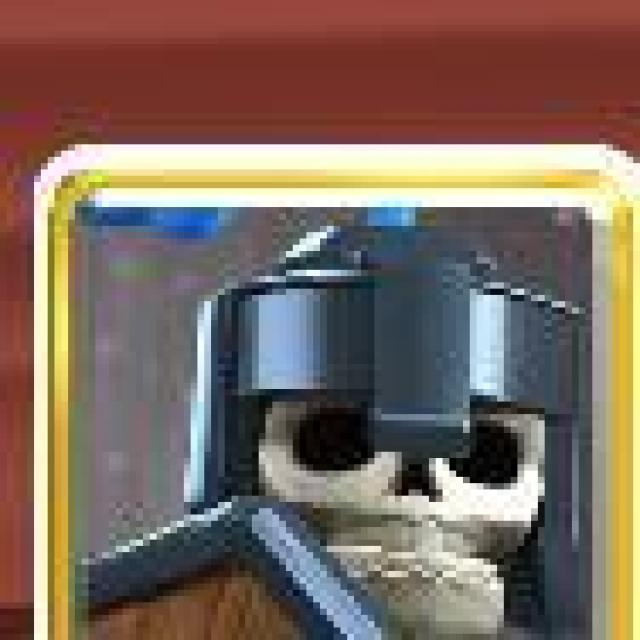Guards: (35, 144, 634, 640)
